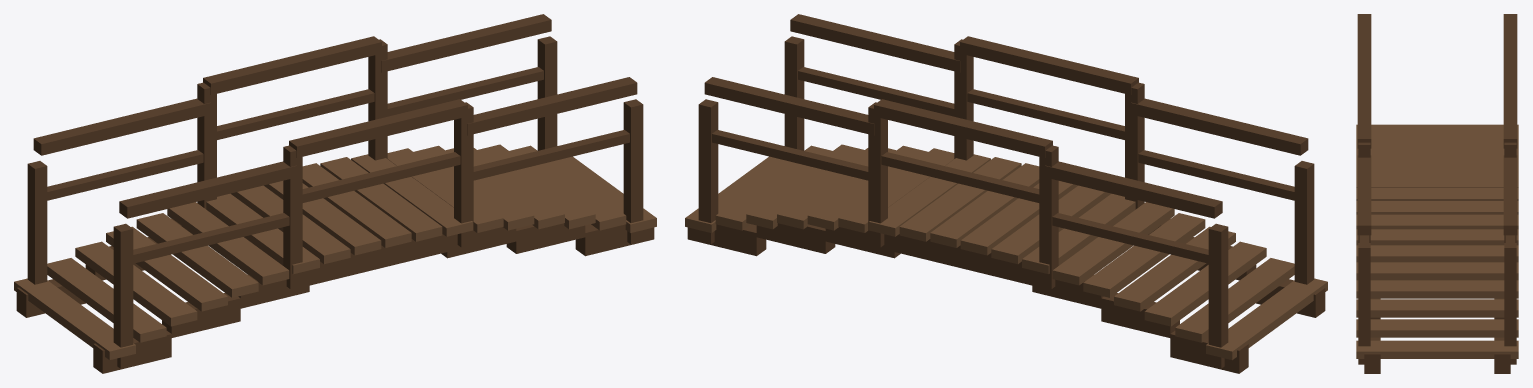
Rendered from footbridge.glb.
3 views of the same model, side by side, from view 1: azimuth 30°, elevation 25°; view 2: azimuth 150°, elevation 25°; view 3: azimuth 270°, elevation 25° (orthographic). The views are drawn at different scales.
Parts seen in each view (by area): view 1: footbridge; view 2: footbridge; view 3: footbridge.
Part boxes in pixels (bbox=[...]): footbridge: bbox=[14, 14, 656, 373]; footbridge: bbox=[685, 14, 1327, 373]; footbridge: bbox=[1356, 14, 1518, 373].
Bounding box in the file's own units: 4 × 1.27 × 1.2.
